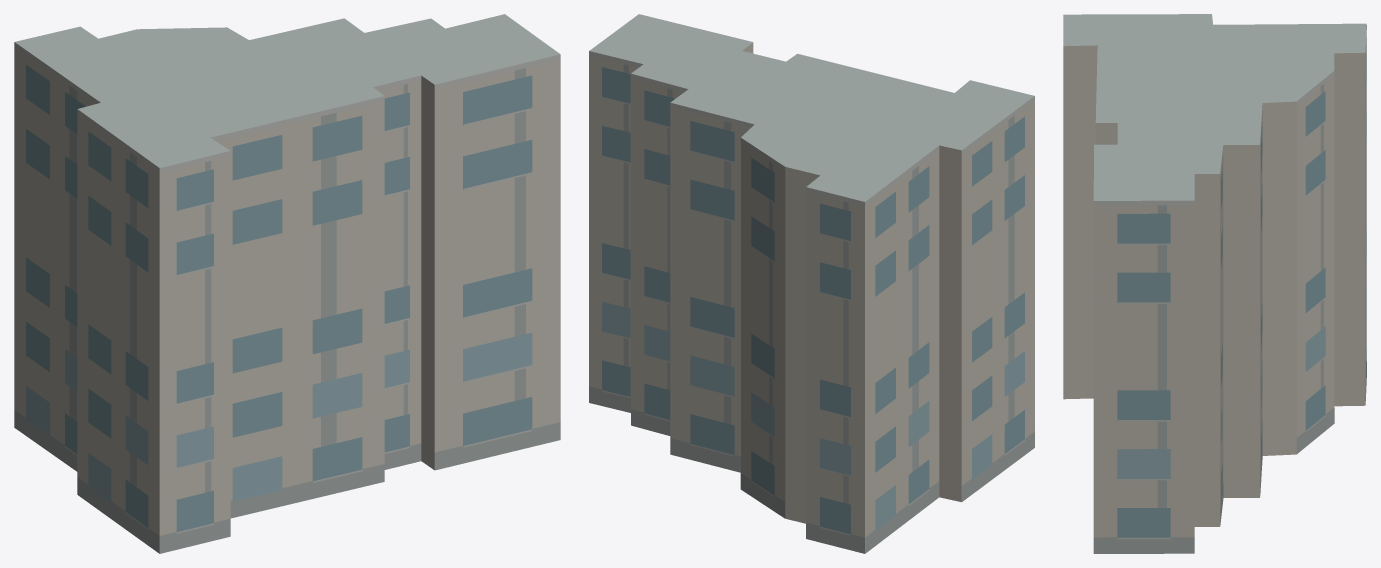
The model's file is survey-upis-32959116.glb.
The picture shows the model from 3 angles, left to right: view 1: azimuth 30°, elevation 25°; view 2: azimuth 150°, elevation 25°; view 3: azimuth 270°, elevation 25°; orthographic projection. The views are drawn at different scales.
Visible parts, largest first — view 1: survey-upis-32959116.tmp; view 2: survey-upis-32959116.tmp; view 3: survey-upis-32959116.tmp.
Part boxes in pixels (left/top/right/bottom): survey-upis-32959116.tmp: left=14, top=14, right=560, bottom=553; survey-upis-32959116.tmp: left=589, top=14, right=1034, bottom=553; survey-upis-32959116.tmp: left=1063, top=14, right=1366, bottom=553.
Size of the model in its own units: 20.79 by 18.3 by 14.27.
